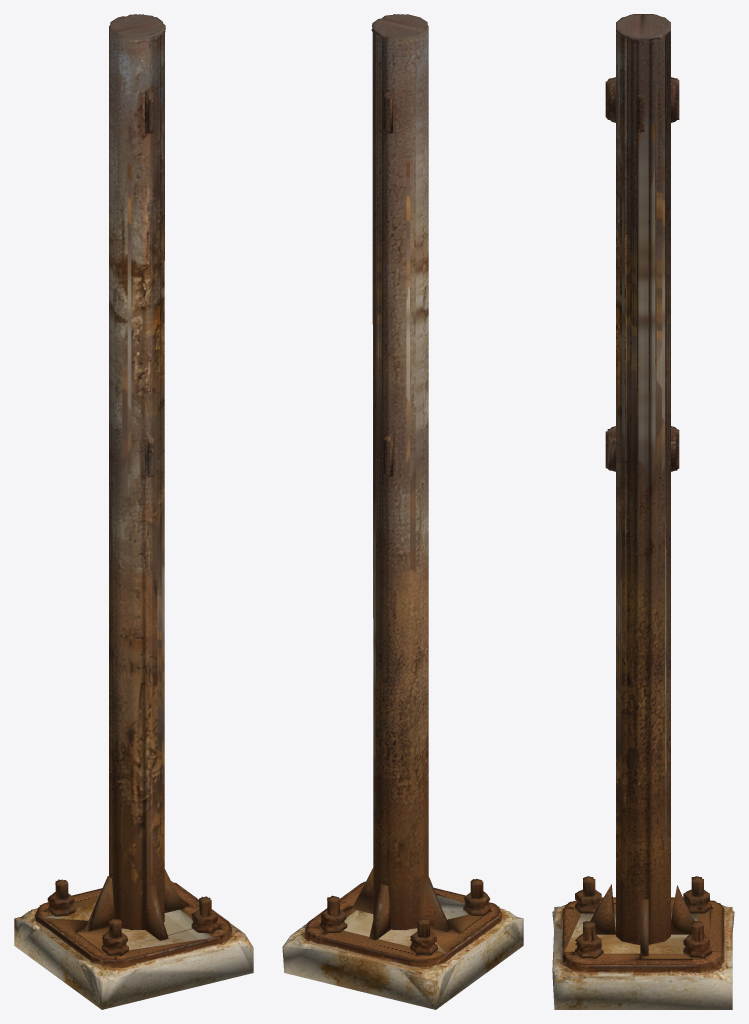
The model's file is selected.glb.
3 views of the same model, side by side, from view 1: azimuth 30°, elevation 25°; view 2: azimuth 150°, elevation 25°; view 3: azimuth 270°, elevation 25° (orthographic).
Visible parts, largest first — view 1: tripo_node_779a7ad5-ce70-45dd-8b6b-8d8c6d641e6f; view 2: tripo_node_779a7ad5-ce70-45dd-8b6b-8d8c6d641e6f; view 3: tripo_node_779a7ad5-ce70-45dd-8b6b-8d8c6d641e6f.
Part boxes in pixels (x1,y1,x2,y2): tripo_node_779a7ad5-ce70-45dd-8b6b-8d8c6d641e6f: (14, 14, 253, 1009); tripo_node_779a7ad5-ce70-45dd-8b6b-8d8c6d641e6f: (282, 14, 523, 1009); tripo_node_779a7ad5-ce70-45dd-8b6b-8d8c6d641e6f: (552, 14, 734, 1009).
Bounding box in the file's own units: 0.1738 × 0.998 × 0.1738.
Materials: 1 (1 with a texture image).
